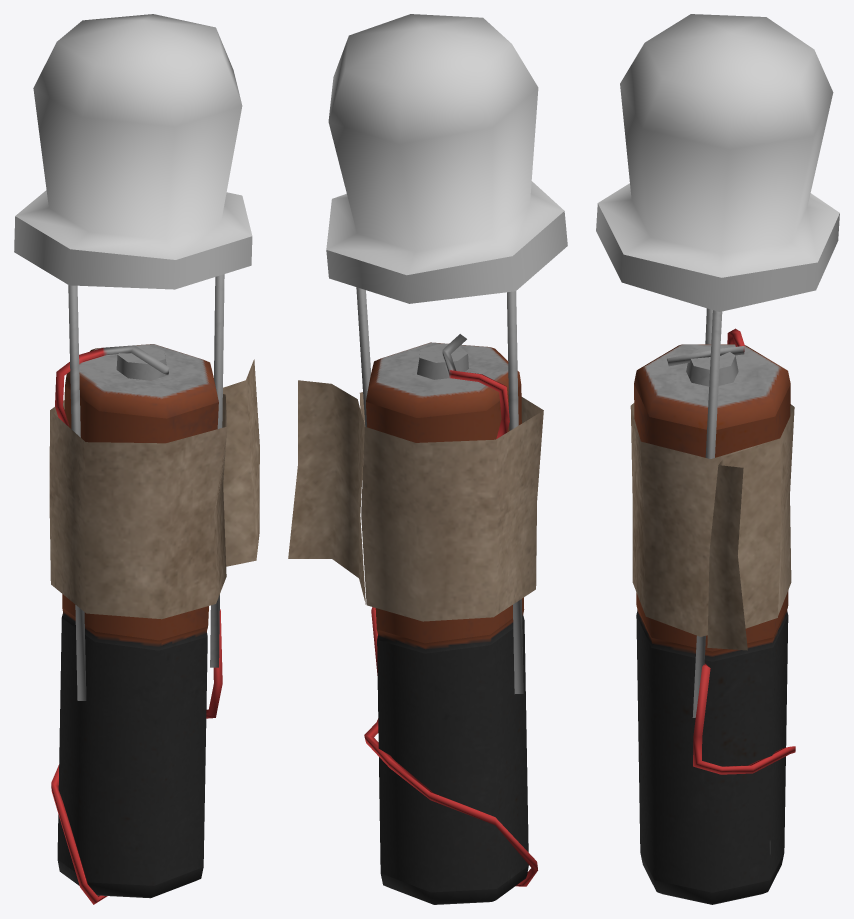
File: Lamp_Floor.fbx
3 views of the same model, side by side, from view 1: azimuth 30°, elevation 25°; view 2: azimuth 150°, elevation 25°; view 3: azimuth 270°, elevation 25° (orthographic).
Parts seen in each view (by area): view 1: Torch_Floor; view 2: Torch_Floor; view 3: Torch_Floor.
Boxes of the visible parts, <box> form: Torch_Floor: <box>14,14,259,904</box>; Torch_Floor: <box>288,14,567,904</box>; Torch_Floor: <box>596,14,839,904</box>.
Size of the model in its own units: 4 by 13.76 by 3.55.
